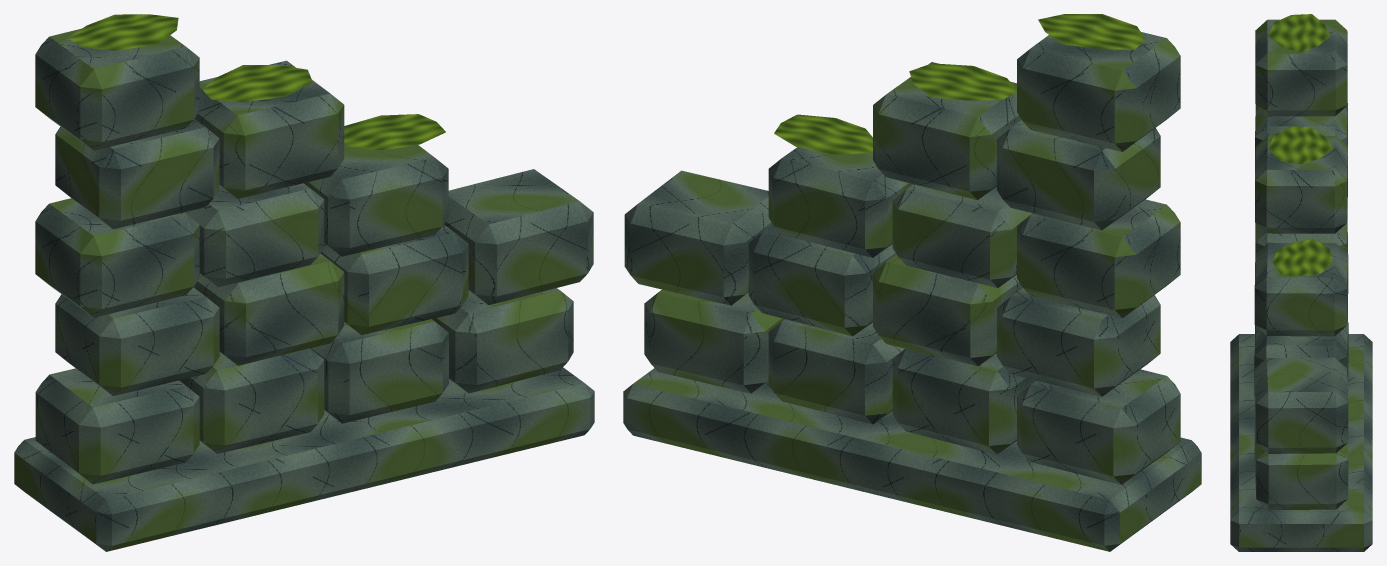
The model's file is temple-broken-wall.glb.
3 views of the same model, side by side, from view 1: azimuth 30°, elevation 25°; view 2: azimuth 150°, elevation 25°; view 3: azimuth 270°, elevation 25° (orthographic). The views are drawn at different scales.
Parts seen in each view (by area): view 1: temple-broken-wall_kit-stone, temple-broken-wall_kit-moss; view 2: temple-broken-wall_kit-stone, temple-broken-wall_kit-moss; view 3: temple-broken-wall_kit-stone, temple-broken-wall_kit-moss.
Boxes of the visible parts, x1,y1,x2,y2 form: temple-broken-wall_kit-stone: (14,28,594,551); temple-broken-wall_kit-moss: (68,14,445,150); temple-broken-wall_kit-stone: (623,32,1201,551); temple-broken-wall_kit-moss: (774,14,1145,154); temple-broken-wall_kit-stone: (1230,19,1372,551); temple-broken-wall_kit-moss: (1268,14,1333,275).
Bounding box in the file's own units: 2.07 × 1.84 × 0.65.
Materials: 2 (2 with a texture image).
